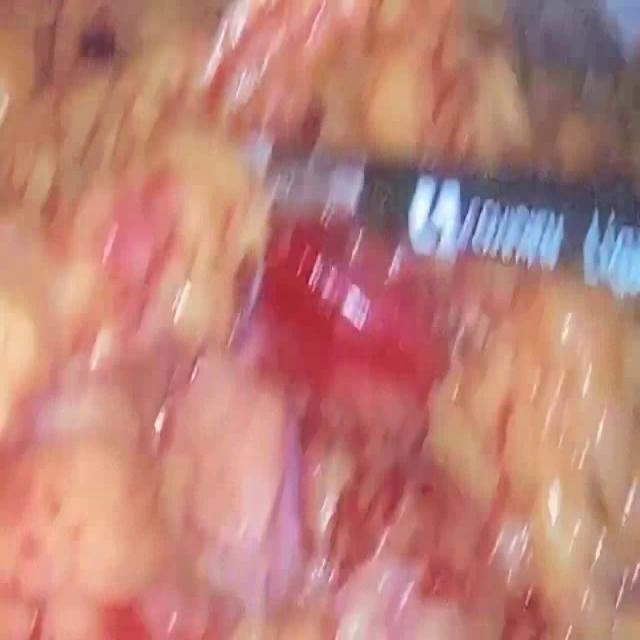surgical-tool: (270, 162, 640, 301)
